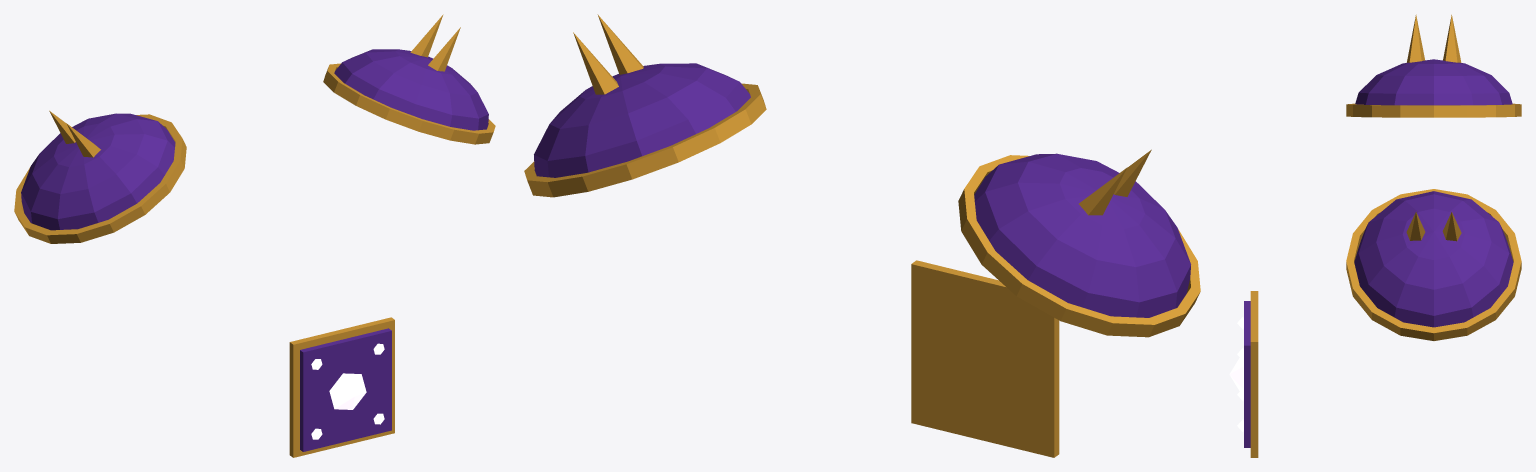
File: armor_guard_chest_epic_orc.glb
The picture shows the model from 3 angles, left to right: view 1: azimuth 30°, elevation 25°; view 2: azimuth 150°, elevation 25°; view 3: azimuth 270°, elevation 25°; orthographic projection. The views are drawn at different scales.
Visible parts, largest first — view 1: armor_guard_chest_epic_orc__clavicle_r, armor_guard_chest_epic_orc__spine_03, armor_guard_chest_epic_orc__clavicle_l; view 2: armor_guard_chest_epic_orc__clavicle_r, armor_guard_chest_epic_orc__spine_03, armor_guard_chest_epic_orc__clavicle_l; view 3: armor_guard_chest_epic_orc__clavicle_l, armor_guard_chest_epic_orc__clavicle_r, armor_guard_chest_epic_orc__spine_03.
Part boxes in pixels (x1,y1,x2,y2): armor_guard_chest_epic_orc__clavicle_r: (14,110,186,243); armor_guard_chest_epic_orc__spine_03: (289,317,394,457); armor_guard_chest_epic_orc__clavicle_l: (323,14,495,144); armor_guard_chest_epic_orc__clavicle_r: (958,149,1200,337); armor_guard_chest_epic_orc__spine_03: (911,260,1059,457); armor_guard_chest_epic_orc__clavicle_l: (524,14,766,197); armor_guard_chest_epic_orc__clavicle_l: (1346,189,1521,340); armor_guard_chest_epic_orc__clavicle_r: (1346,14,1521,117); armor_guard_chest_epic_orc__spine_03: (1229,291,1258,457).
Size of the model in its own units: 71.45 by 46.27 by 38.33.
